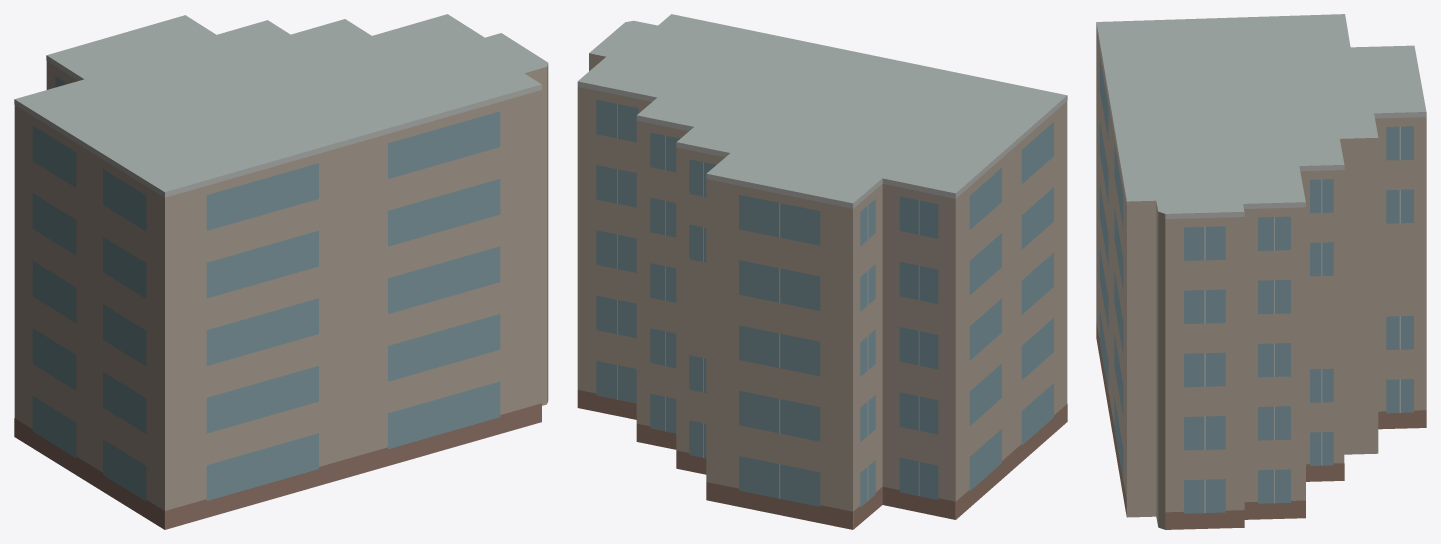
Rendered from survey-upis-32980432.glb.
3 renders of one model, left to right at view 1: azimuth 30°, elevation 25°; view 2: azimuth 150°, elevation 25°; view 3: azimuth 270°, elevation 25°, orthographic. The views are drawn at different scales.
Parts seen in each view (by area): view 1: survey-upis-32980432.tmp; view 2: survey-upis-32980432.tmp; view 3: survey-upis-32980432.tmp.
Part boxes in pixels (<box>): survey-upis-32980432.tmp: <box>14,14,548,529</box>; survey-upis-32980432.tmp: <box>577,14,1067,529</box>; survey-upis-32980432.tmp: <box>1096,14,1426,529</box>.
Bounding box in the file's own units: 20.1 × 14.8 × 14.03.
